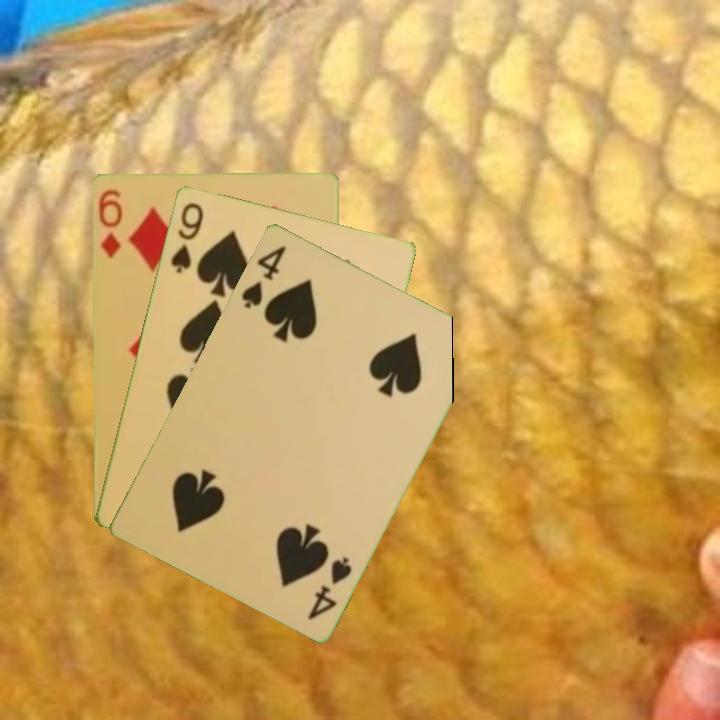4s: (238, 241, 289, 311), (304, 553, 355, 623)
6d: (95, 185, 125, 260)
9s: (166, 198, 206, 276)
